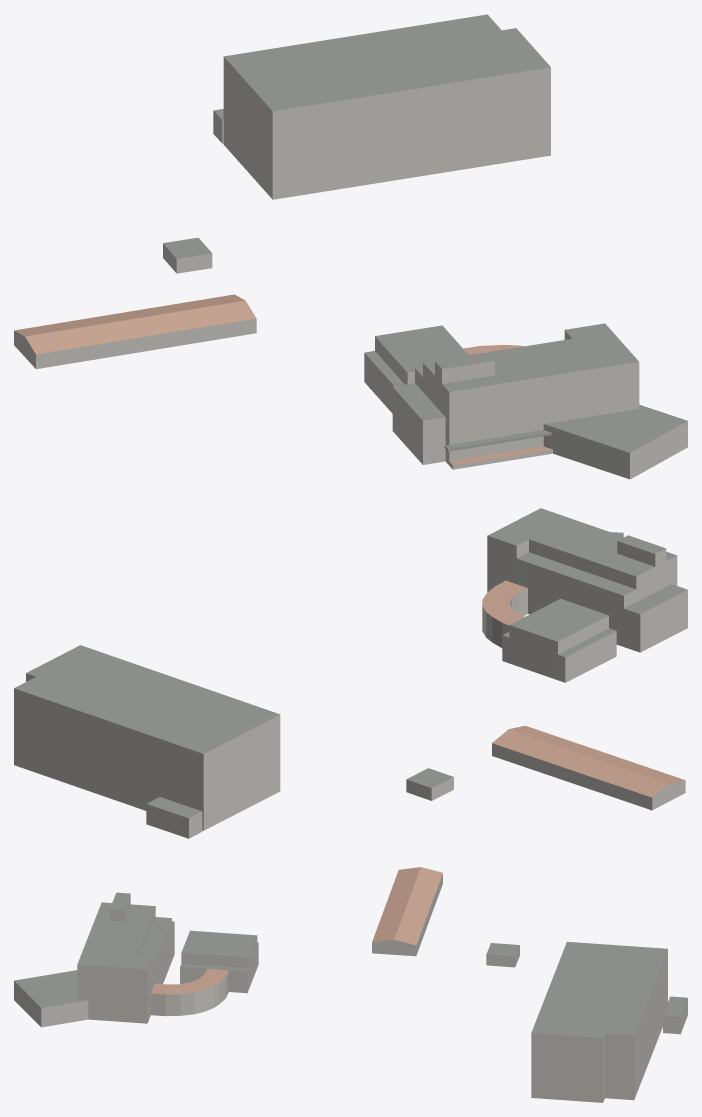
Rendered from gridID_104.dae.
3 views of the same model, one above another, from view 1: azimuth 30°, elevation 25°; view 2: azimuth 150°, elevation 25°; view 3: azimuth 270°, elevation 25° (orthographic). The views are drawn at different scales.
Visible parts, largest first — view 1: model_gridID_104_w380977543, model_gridID_104_w379964021, model_gridID_104_w380829705, model_gridID_104_w380971699; view 2: model_gridID_104_w380977543, model_gridID_104_w379964021, model_gridID_104_w380829705, model_gridID_104_w380977543_001, model_gridID_104_w380971699; view 3: model_gridID_104_w379964021, model_gridID_104_w380977543, model_gridID_104_w380829705, model_gridID_104_w380977543_001, model_gridID_104_w380971699.
Part boxes in pixels (x1,y1,x2,y2): model_gridID_104_w380977543: (223, 14, 550, 199); model_gridID_104_w379964021: (364, 323, 687, 479); model_gridID_104_w380829705: (14, 294, 256, 369); model_gridID_104_w380971699: (163, 237, 212, 273); model_gridID_104_w380977543: (14, 645, 280, 830); model_gridID_104_w379964021: (482, 508, 687, 682); model_gridID_104_w380829705: (492, 725, 685, 810); model_gridID_104_w380977543_001: (146, 797, 202, 838); model_gridID_104_w380971699: (406, 768, 453, 800); model_gridID_104_w379964021: (14, 892, 258, 1027); model_gridID_104_w380977543: (531, 941, 667, 1102); model_gridID_104_w380829705: (372, 867, 442, 956); model_gridID_104_w380977543_001: (663, 996, 687, 1034); model_gridID_104_w380971699: (486, 943, 519, 967).
Size of the model in its own units: 110 by 141 by 15.
